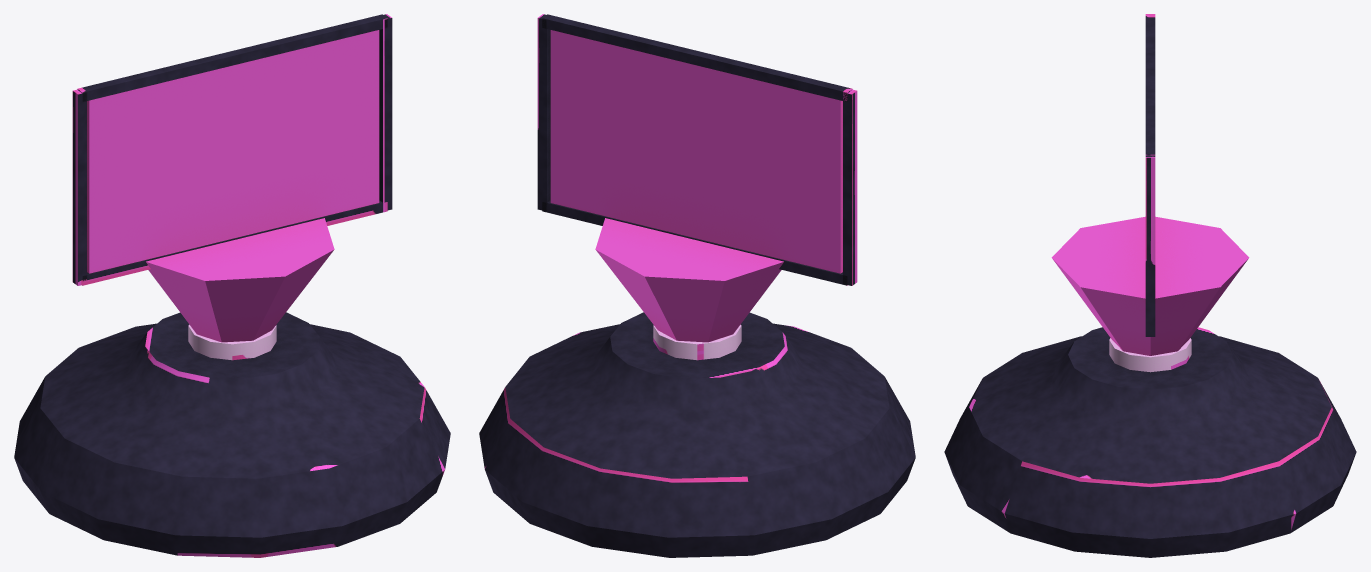
Rendered from holo_projector.fbx.
3 views of the same model, side by side, from view 1: azimuth 30°, elevation 25°; view 2: azimuth 150°, elevation 25°; view 3: azimuth 270°, elevation 25° (orthographic). The views are drawn at different scales.
Parts seen in each view (by area): view 1: holo_projector, holo_projector_glow; view 2: holo_projector, holo_projector_glow; view 3: holo_projector, holo_projector_glow.
Boxes of the visible parts, <box> form: holo_projector: <box>14,14,450,557</box>; holo_projector_glow: <box>87,30,379,342</box>; holo_projector: <box>479,14,915,557</box>; holo_projector_glow: <box>550,30,842,342</box>; holo_projector: <box>944,14,1356,557</box>; holo_projector_glow: <box>1051,216,1249,355</box>.
Bounding box in the file's own units: 500 × 521 × 500.
1 material, 1 textured.
